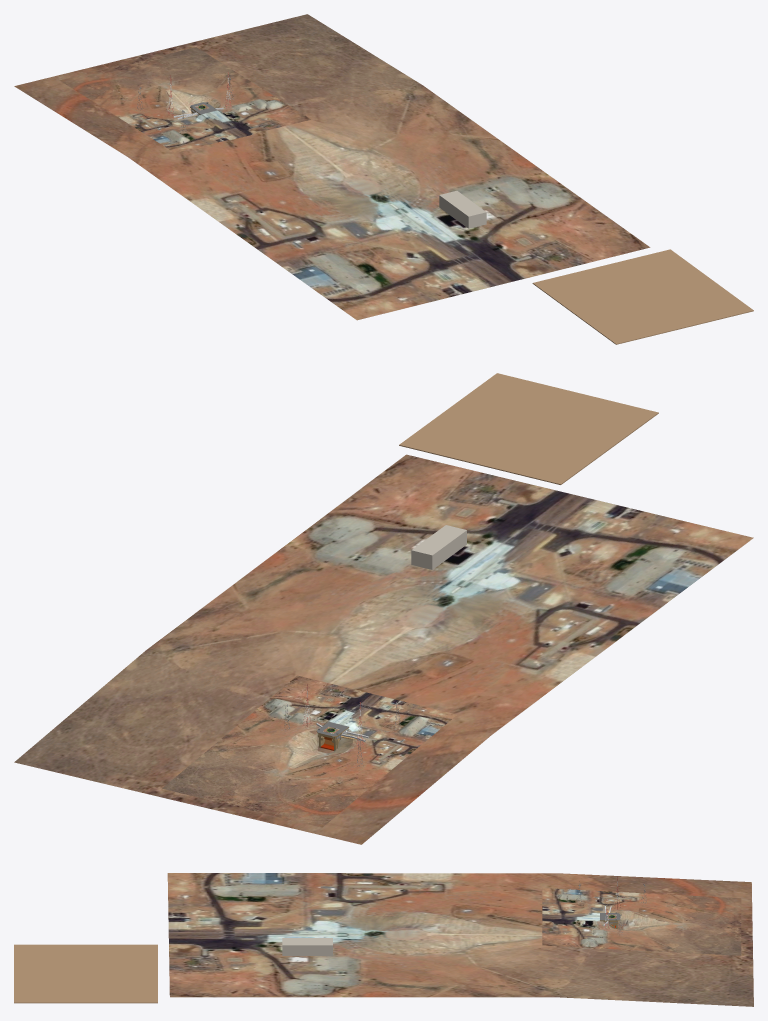
Rendered from launchsite.glb.
3 views of the same model, one above another, from view 1: azimuth 30°, elevation 25°; view 2: azimuth 150°, elevation 25°; view 3: azimuth 270°, elevation 25° (orthographic). The views are drawn at different scales.
Parts seen in each view (by area): view 1: b31-material, _7_-_Default_Spaceports_Skins_LaunchpadB31Trench_TrenchB31-, Material_135-material, Material_098-material, _7_-_Default_Spaceports_Skins_LaunchpadB31Trench_TrenchB31-m; view 2: b31-material, _7_-_Default_Spaceports_Skins_LaunchpadB31Trench_TrenchB31-, Material_135-material, Material_098-material, _7_-_Default_Spaceports_Skins_LaunchpadB31Trench_TrenchB31-m; view 3: b31-material, _7_-_Default_Spaceports_Skins_LaunchpadB31Trench_TrenchB31-, Material_135-material, Material_098-material, _7_-_Default_Spaceports_Skins_LaunchpadB31Trench_TrenchB31-m.
Part boxes in pixels (left/top/right/bottom): b31-material: left=14, top=14, right=650, bottom=320; _7_-_Default_Spaceports_Skins_LaunchpadB31Trench_TrenchB31-: left=60, top=47, right=310, bottom=152; Material_135-material: left=532, top=249, right=753, bottom=344; Material_098-material: left=439, top=191, right=486, bottom=228; _7_-_Default_Spaceports_Skins_LaunchpadB31Trench_TrenchB31-m: left=195, top=110, right=255, bottom=140; b31-material: left=14, top=454, right=753, bottom=844; _7_-_Default_Spaceports_Skins_LaunchpadB31Trench_TrenchB31-: left=162, top=675, right=457, bottom=827; Material_135-material: left=399, top=373, right=658, bottom=484; Material_098-material: left=411, top=525, right=466, bottom=569; _7_-_Default_Spaceports_Skins_LaunchpadB31Trench_TrenchB31-m: left=322, top=699, right=379, bottom=733; b31-material: left=167, top=873, right=753, bottom=1006; _7_-_Default_Spaceports_Skins_LaunchpadB31Trench_TrenchB31-: left=542, top=888, right=741, bottom=955; Material_135-material: left=14, top=944, right=157, bottom=1003; Material_098-material: left=282, top=938, right=332, bottom=956; _7_-_Default_Spaceports_Skins_LaunchpadB31Trench_TrenchB31-m: left=554, top=913, right=604, bottom=924.
Bounding box in the file's own units: 819 × 140 × 1950.
30 materials, 1 textured.
